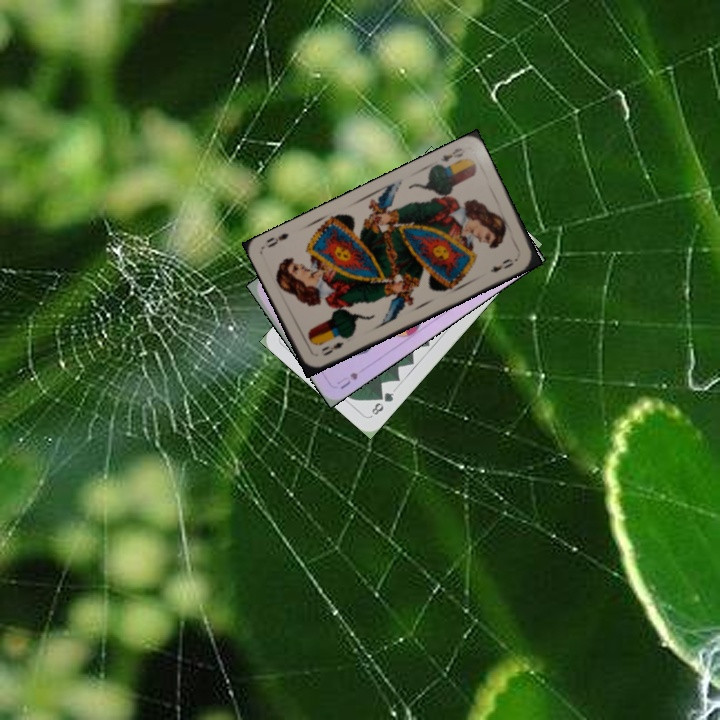EO: (436, 143, 468, 164), (318, 338, 346, 359)
G8: (367, 388, 397, 418)
SU: (333, 368, 360, 392)
